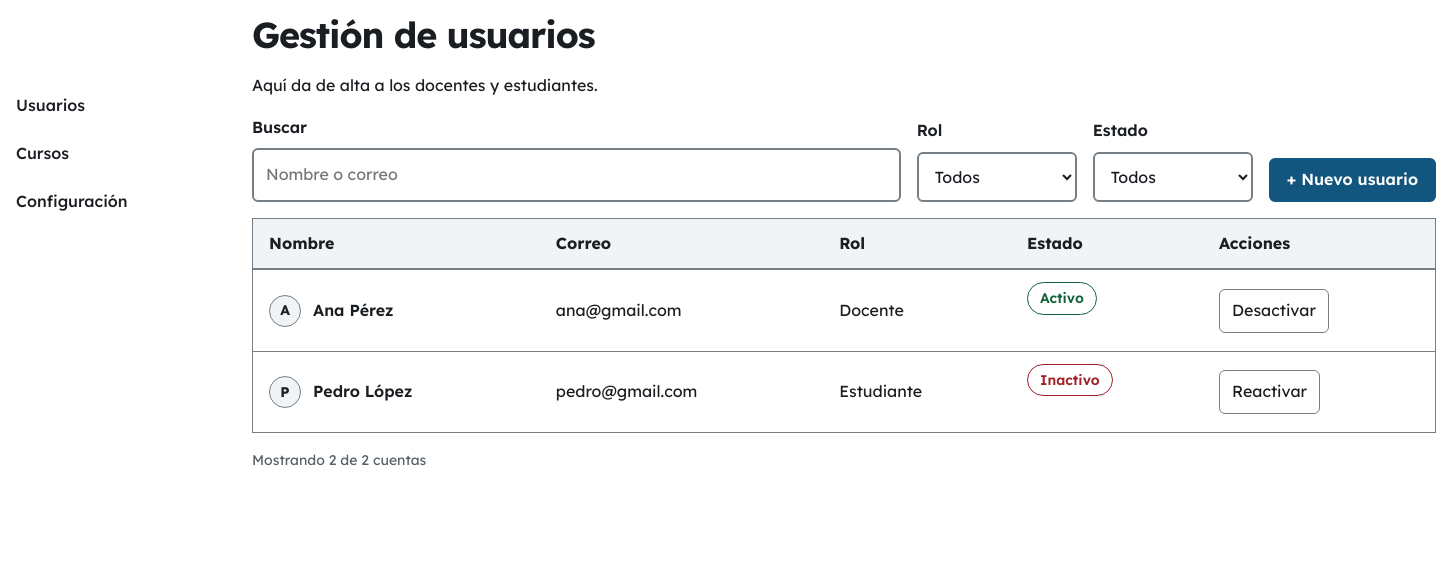
Test: Gestión de usuarios › desactivar confirma con el nombre de la persona
Click the button with aria-label "desactivar la cuenta de ana pérez" at (1274, 311), box 1219,289 -> 1329,333
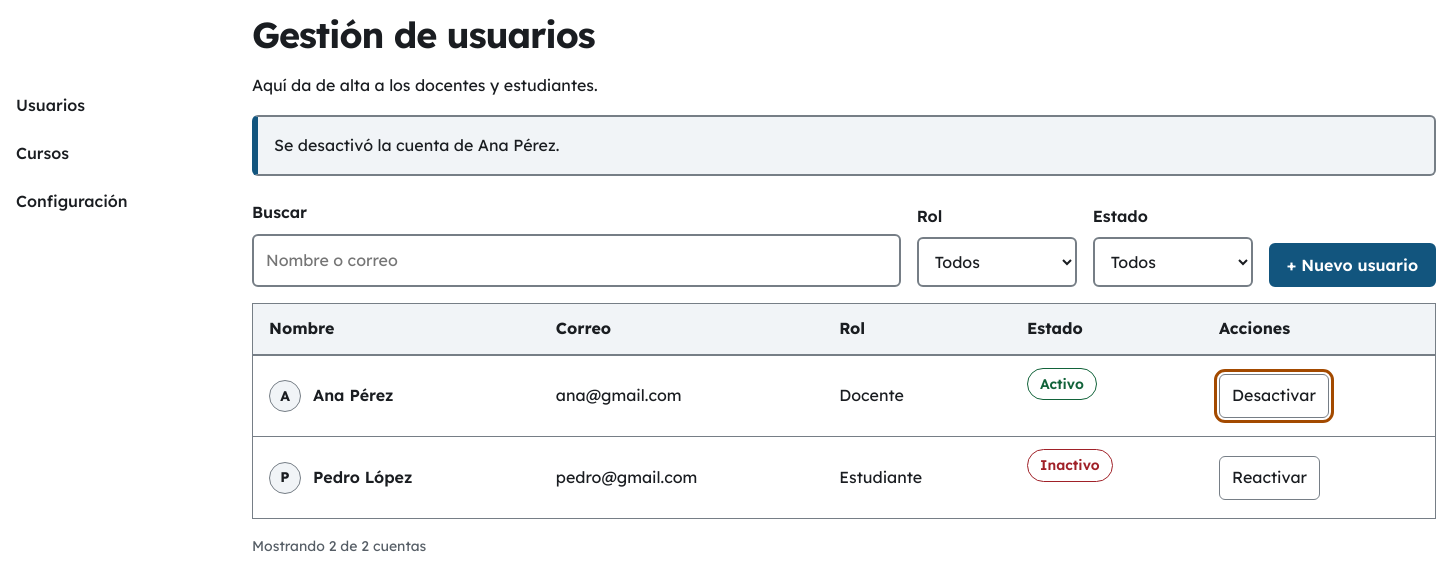
Check: the message shows "Se desactivó la cuenta de Ana Pérez", box 274,135 -> 559,155
